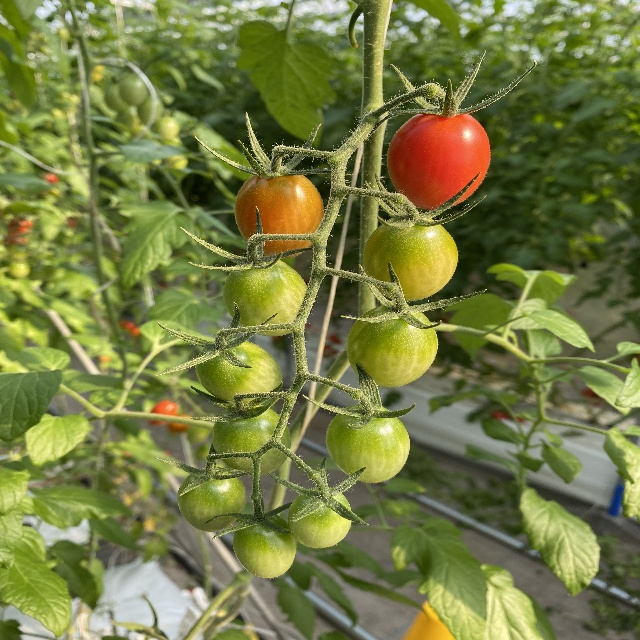l_fully_ripened: (386, 107, 491, 210)
l_green: (363, 212, 459, 303), (345, 303, 439, 387), (224, 255, 312, 337), (326, 403, 410, 484), (194, 337, 282, 404), (213, 403, 291, 476), (177, 464, 247, 533), (231, 511, 298, 579), (288, 486, 353, 549)
l_half_ripened: (234, 168, 324, 258)
